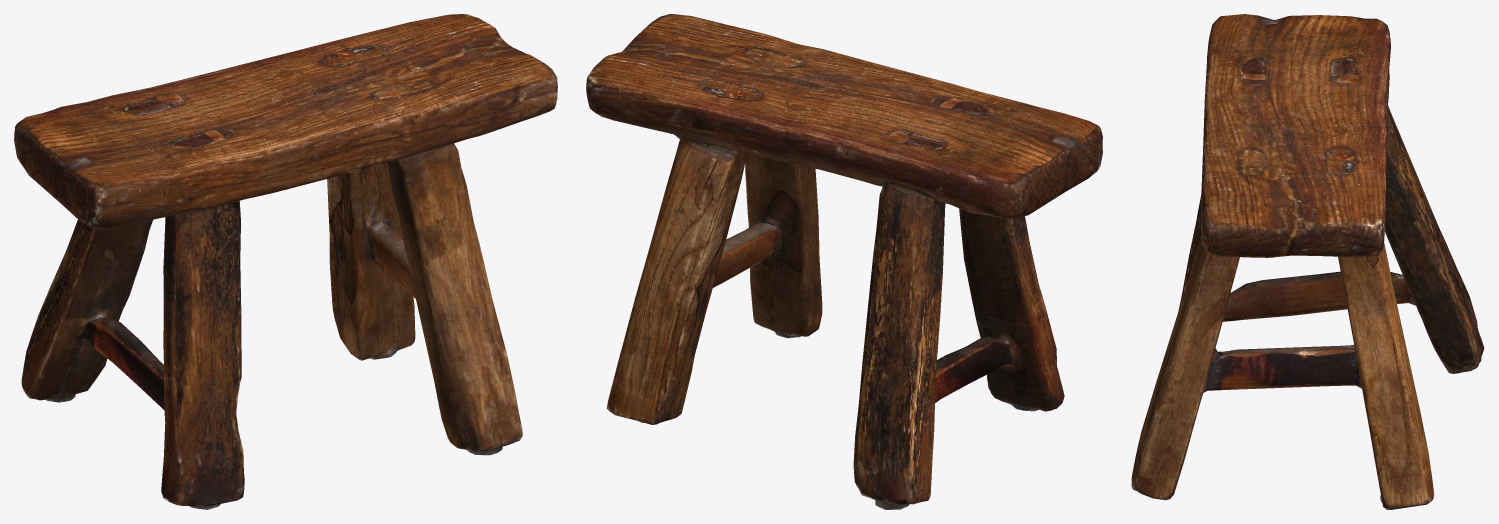
Rendered from wooden-stool.glb.
The picture shows the model from 3 angles, left to right: view 1: azimuth 30°, elevation 25°; view 2: azimuth 150°, elevation 25°; view 3: azimuth 270°, elevation 25°; orthographic projection. The views are drawn at different scales.
Visible parts, largest first — view 1: wooden-stool; view 2: wooden-stool; view 3: wooden-stool.
Part boxes in pixels (x1,y1,x2,y2): wooden-stool: (14, 14, 557, 509); wooden-stool: (586, 14, 1102, 509); wooden-stool: (1131, 14, 1484, 509).
Size of the model in its own units: 0.6628 by 0.4552 by 0.4581.
1 material, 1 textured.
